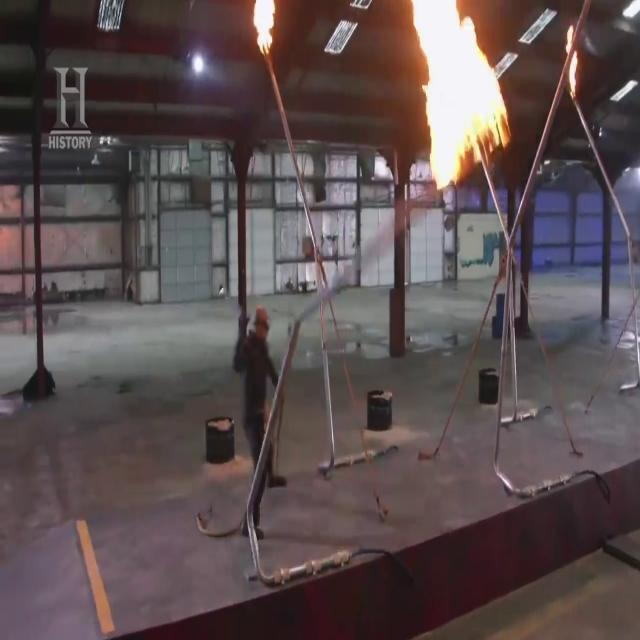Fire: (404, 0, 536, 180), (562, 14, 589, 98), (240, 11, 292, 54)
